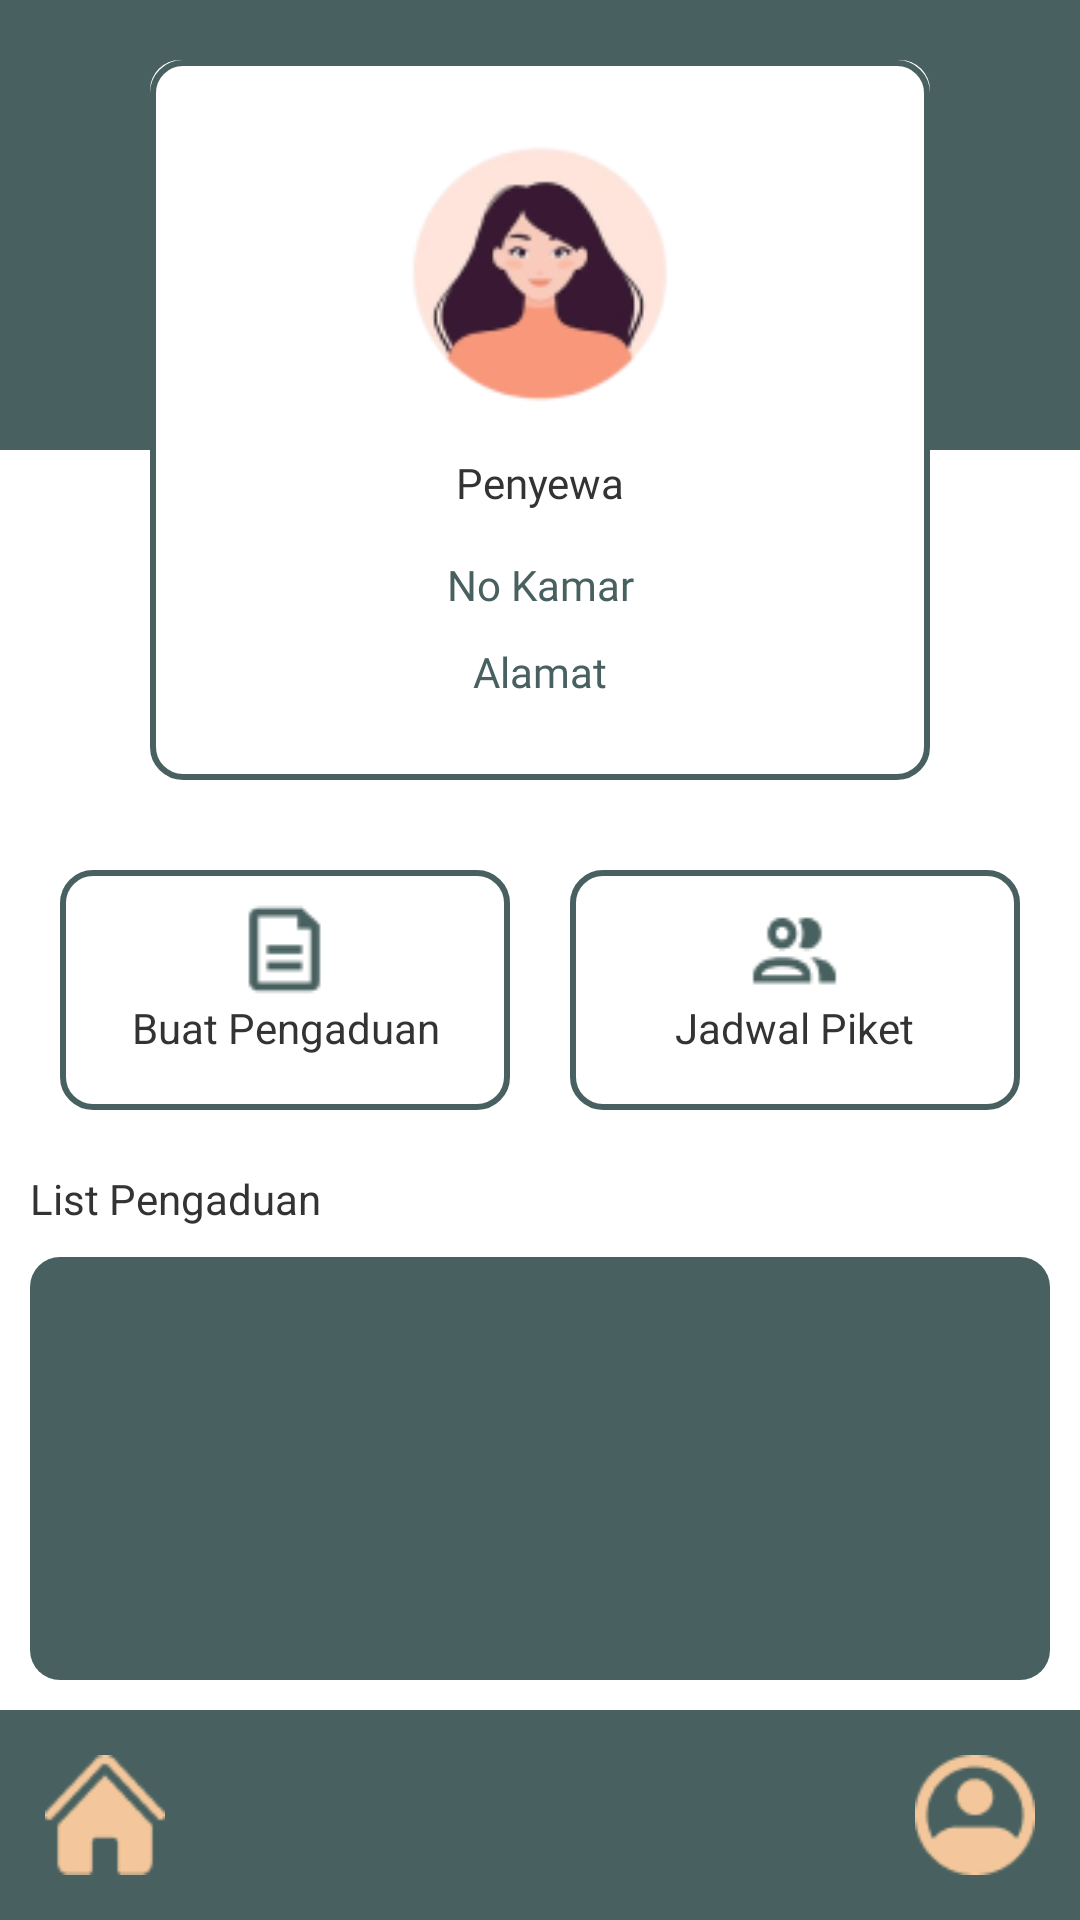

Where icons sit on this 1080x1920 app screen, as [left=x1, top=y1, right=x2, bottom=y2]:
doc: [left=248, top=906, right=321, bottom=993]
home: [left=45, top=1755, right=165, bottom=1875]
profile: [left=915, top=1755, right=1035, bottom=1875]
